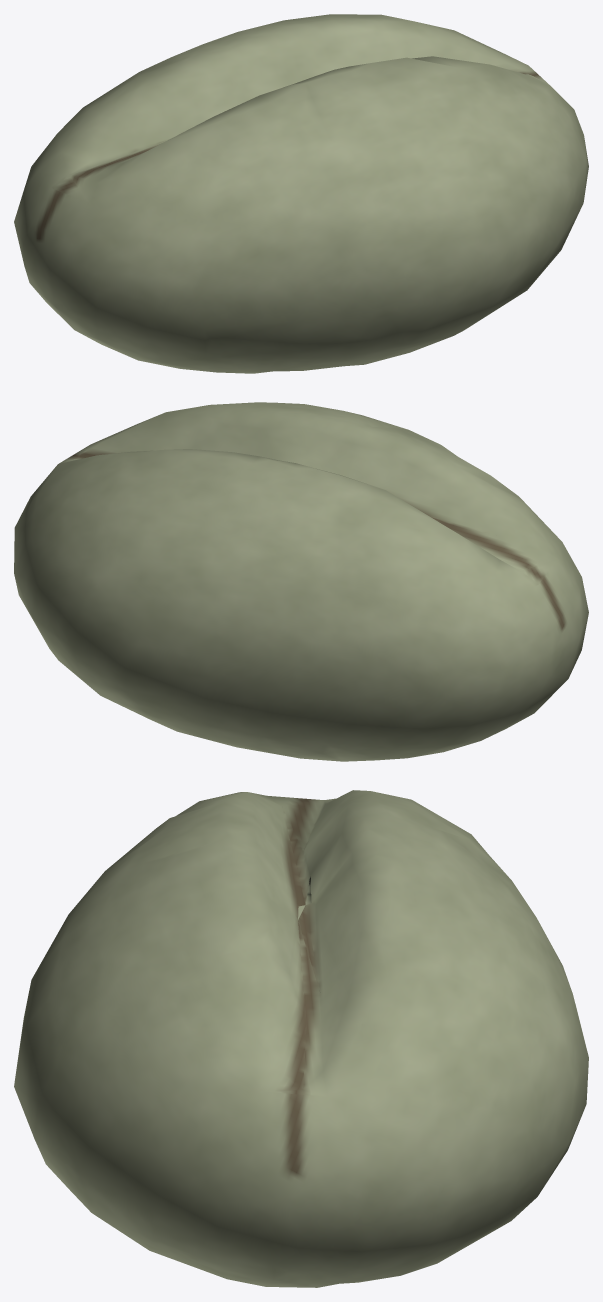
Rendered from bean_good_lod.glb.
3 renders of one model, top to bottom at view 1: azimuth 30°, elevation 25°; view 2: azimuth 150°, elevation 25°; view 3: azimuth 270°, elevation 25°, orthographic. The views are drawn at different scales.
Parts seen in each view (by area): view 1: bean_good; view 2: bean_good; view 3: bean_good.
Boxes of the visible parts, <box> form: bean_good: <box>14,14,588,373</box>; bean_good: <box>14,402,588,761</box>; bean_good: <box>14,790,588,1287</box>.
Bounding box in the file's own units: 0.0098 × 0.0051 × 0.0071.
1 material, 1 textured.
